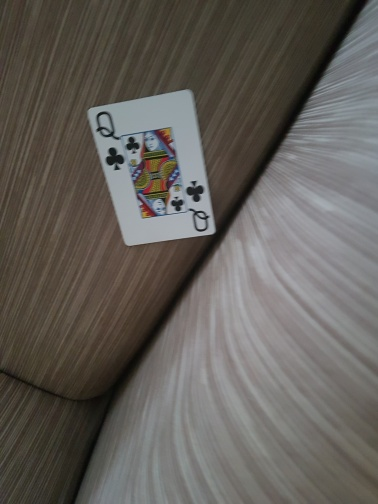queen: (89, 90, 216, 247)
